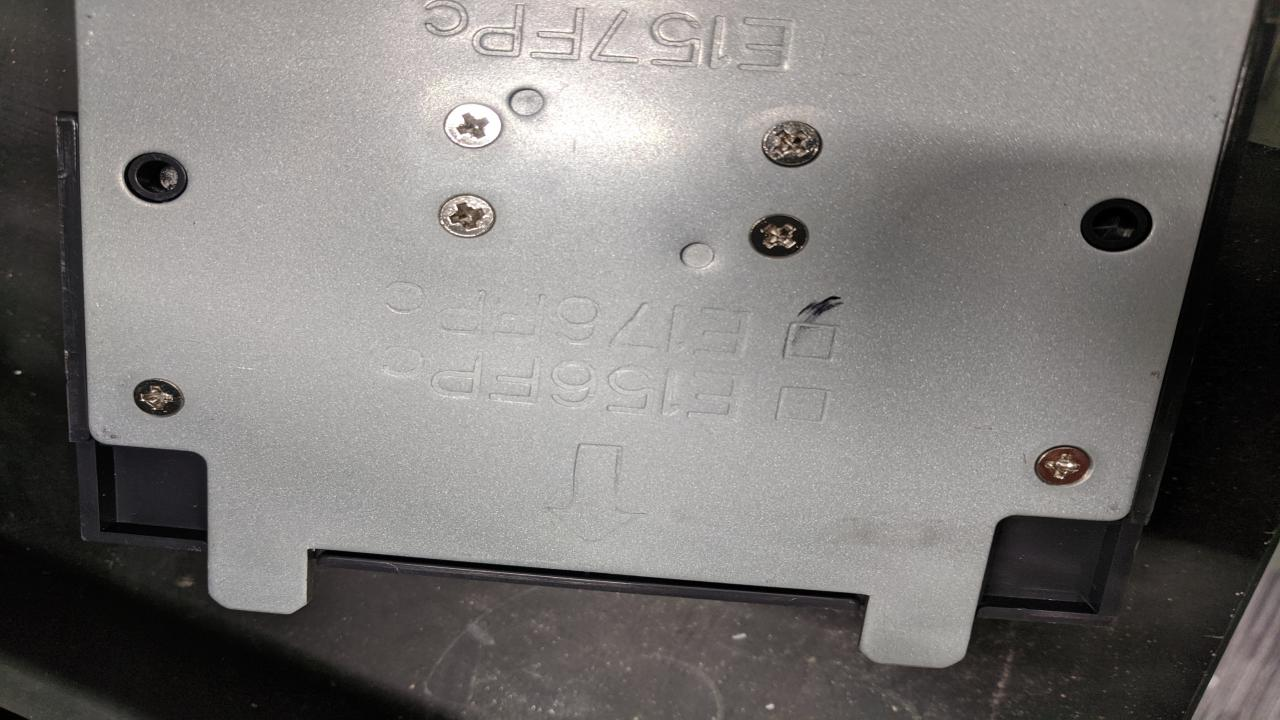CRS: (758, 119, 825, 170), (442, 102, 504, 148), (748, 214, 810, 260), (1030, 444, 1097, 484), (437, 193, 494, 236), (132, 375, 185, 421)
